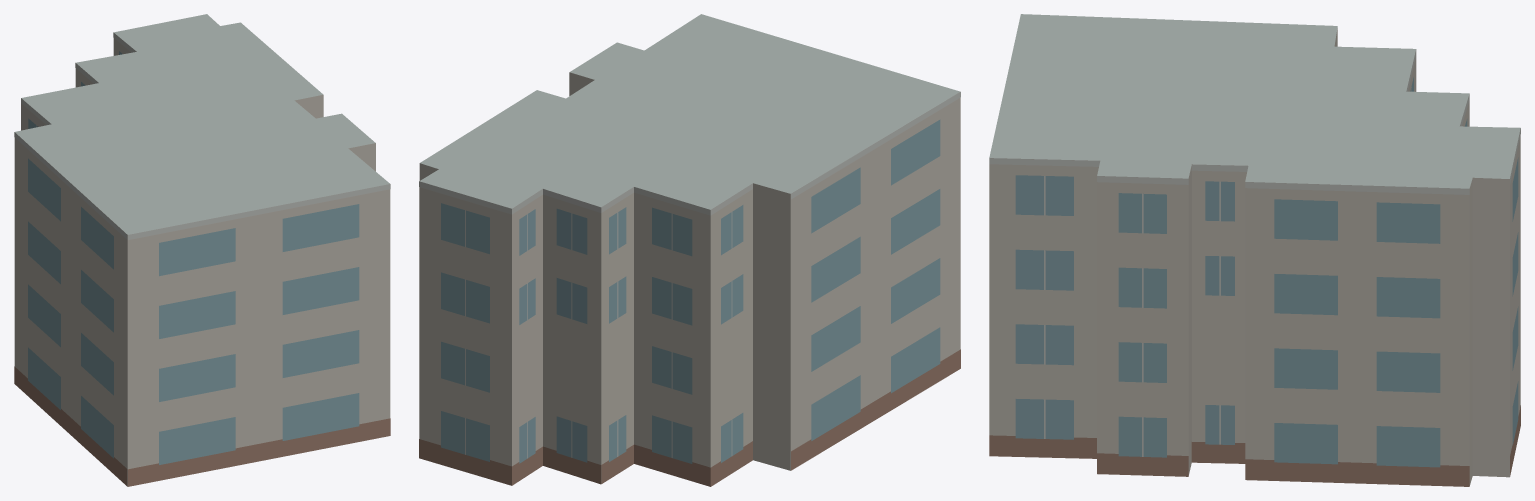
The model's file is survey-upis-32605008.glb.
The picture shows the model from 3 angles, left to right: view 1: azimuth 30°, elevation 25°; view 2: azimuth 150°, elevation 25°; view 3: azimuth 270°, elevation 25°; orthographic projection. The views are drawn at different scales.
Visible parts, largest first — view 1: survey-upis-32605008.tmp; view 2: survey-upis-32605008.tmp; view 3: survey-upis-32605008.tmp.
Part boxes in pixels (x1,y1,x2,y2): survey-upis-32605008.tmp: (14, 14, 390, 486); survey-upis-32605008.tmp: (419, 14, 960, 486); survey-upis-32605008.tmp: (989, 14, 1520, 486).
Bounding box in the file's own units: 14.66 × 11.66 × 18.85.
